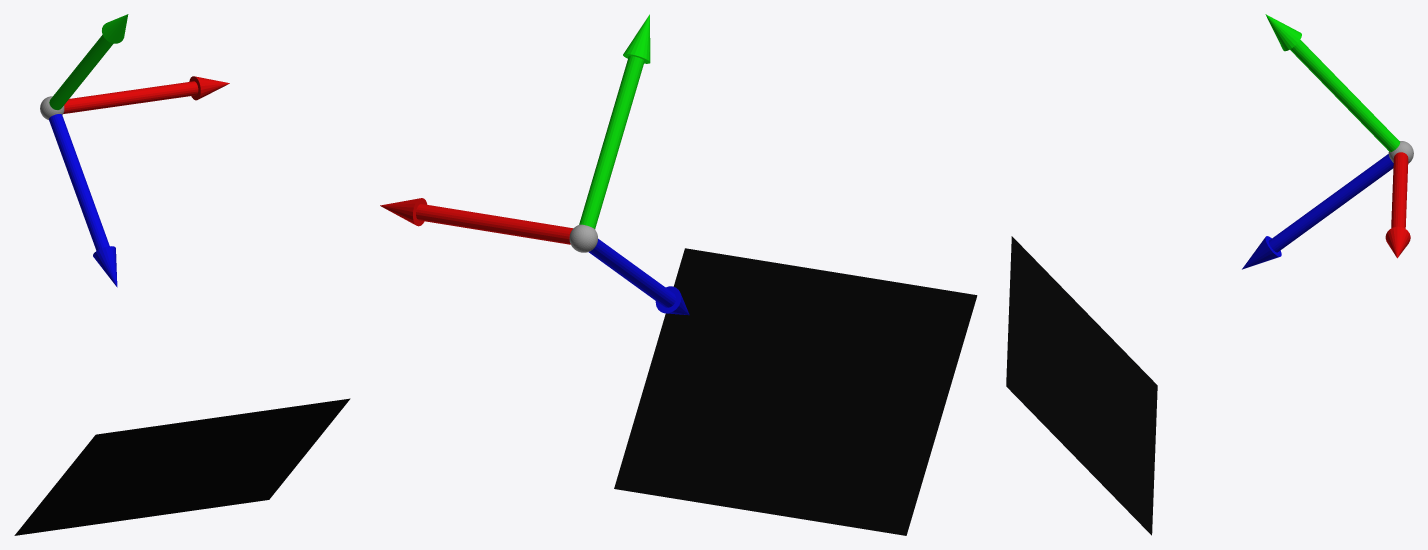
3 views of the same model, side by side, from view 1: azimuth 30°, elevation 25°; view 2: azimuth 150°, elevation 25°; view 3: azimuth 270°, elevation 25° (orthographic). The views are drawn at different scales.
Bounding box in the file's own units: 0.2352 × 0.3149 × 0.2429.
